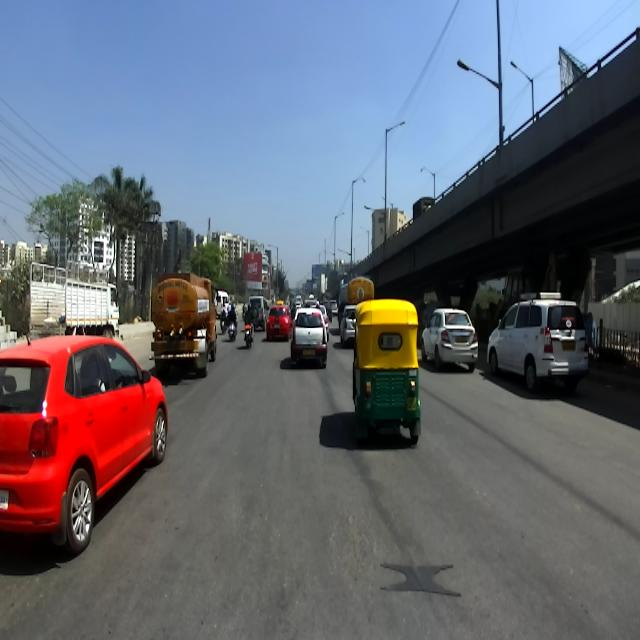auto ahead at: (352, 296, 422, 455)
car ahead at: (0, 340, 171, 547), (290, 297, 329, 369)
truck ahead at: (150, 257, 220, 384)
